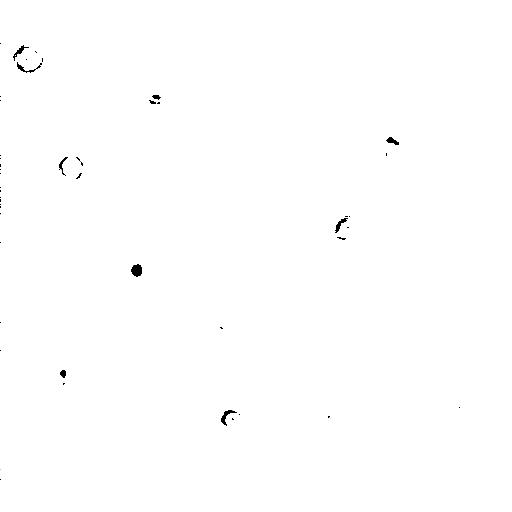micro-algae: (115, 243, 162, 291), (371, 125, 410, 156), (9, 43, 46, 75), (180, 0, 227, 20), (49, 361, 77, 394), (57, 153, 85, 182), (331, 214, 361, 240), (495, 130, 511, 174), (222, 409, 243, 427)
